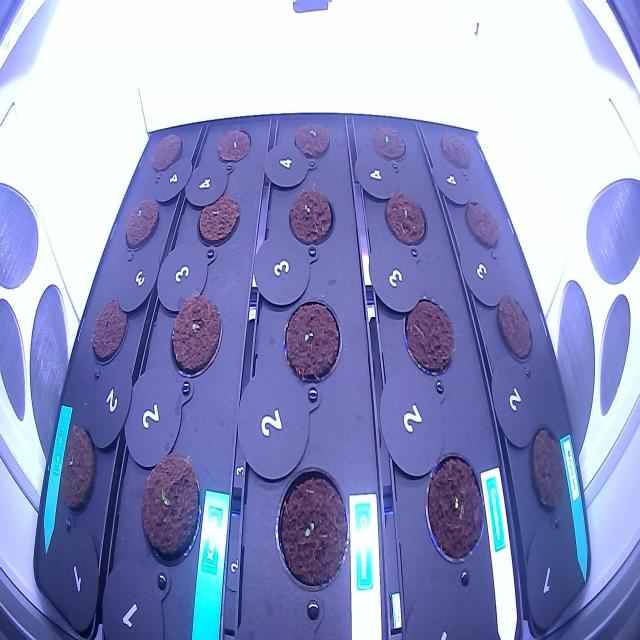germination: (268, 456, 358, 604), (136, 447, 204, 573), (277, 292, 347, 394), (167, 290, 225, 384), (282, 186, 338, 252), (120, 193, 166, 258), (290, 114, 334, 170)
pod: (420, 439, 490, 575), (399, 292, 458, 383), (524, 420, 573, 522), (49, 419, 100, 516), (492, 287, 538, 370), (378, 183, 432, 253), (84, 291, 132, 365), (192, 189, 242, 253), (462, 196, 503, 253), (148, 124, 185, 180), (368, 117, 410, 166), (435, 126, 475, 175), (214, 122, 253, 170)
